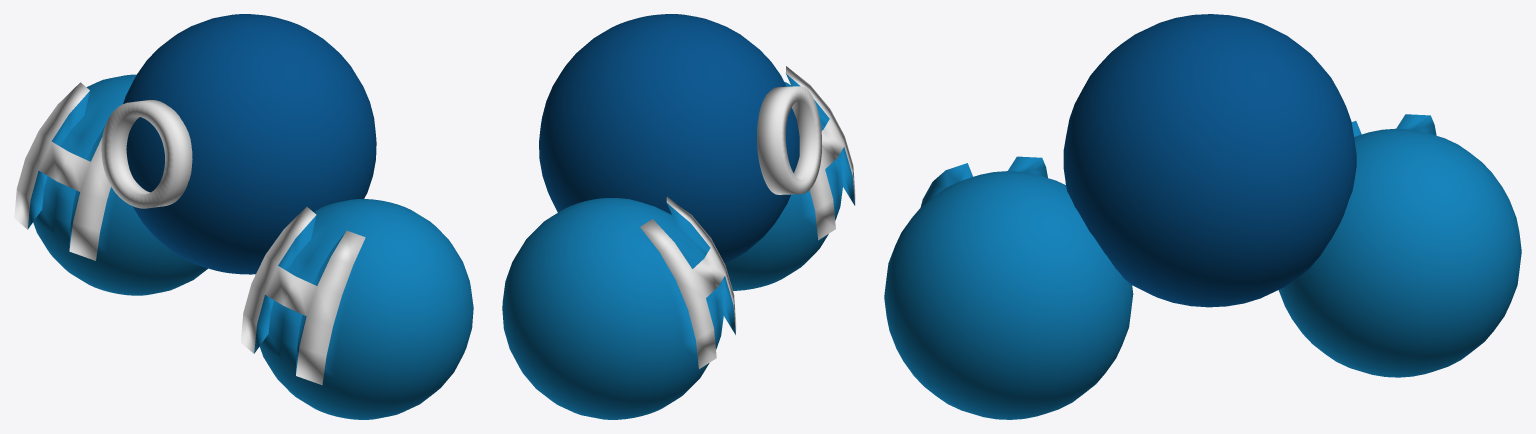
The picture shows the model from 3 angles, left to right: view 1: azimuth 30°, elevation 25°; view 2: azimuth 150°, elevation 25°; view 3: azimuth 270°, elevation 25°; orthographic projection. The views are drawn at different scales.
Visible parts, largest first — view 1: テキスト, 球.001, 球.002; view 2: テキスト, 球.002, 球.001; view 3: テキスト, 球.001, 球.002.
Part boxes in pixels (x1,y1,x2,y2): テキスト: [101, 14, 376, 274]; 球.001: [240, 199, 473, 419]; 球.002: [14, 74, 207, 295]; テキスト: [539, 14, 822, 263]; 球.002: [502, 196, 736, 419]; 球.001: [725, 66, 855, 290]; テキスト: [1063, 14, 1356, 307]; 球.001: [884, 156, 1133, 419]; 球.002: [1278, 114, 1521, 377].
Size of the model in its own units: 226 by 275 by 434.
